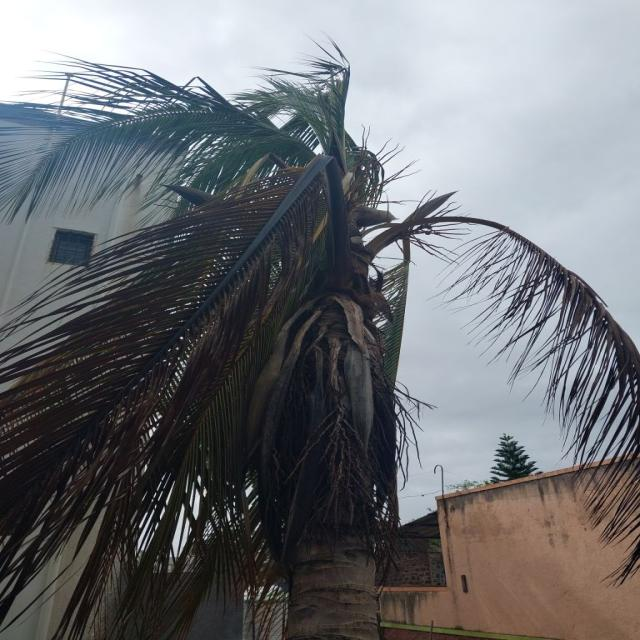bud root dropping: (3, 50, 637, 640)
